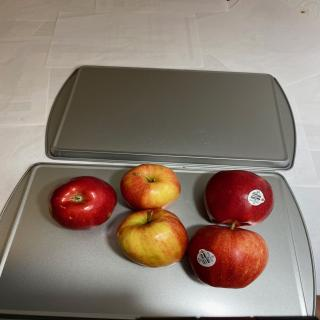Apple: (188, 222, 269, 289), (116, 208, 188, 268), (203, 170, 274, 227), (47, 176, 117, 230), (120, 164, 181, 210)
